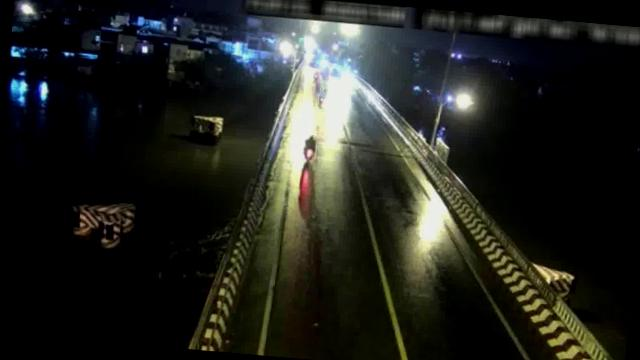Bike: (304, 136, 317, 165), (317, 87, 328, 108)
